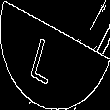L_N: (38, 25, 72, 85)
